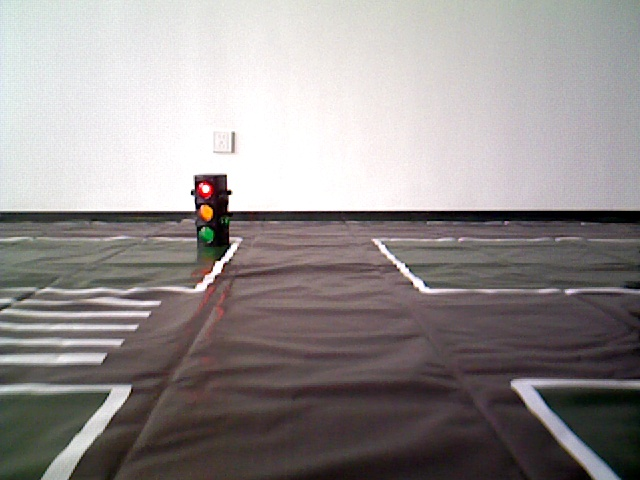red: (197, 178, 227, 247)
